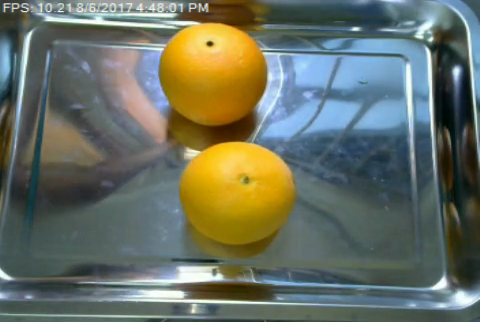Orange: (176, 139, 295, 246), (157, 21, 268, 126)
